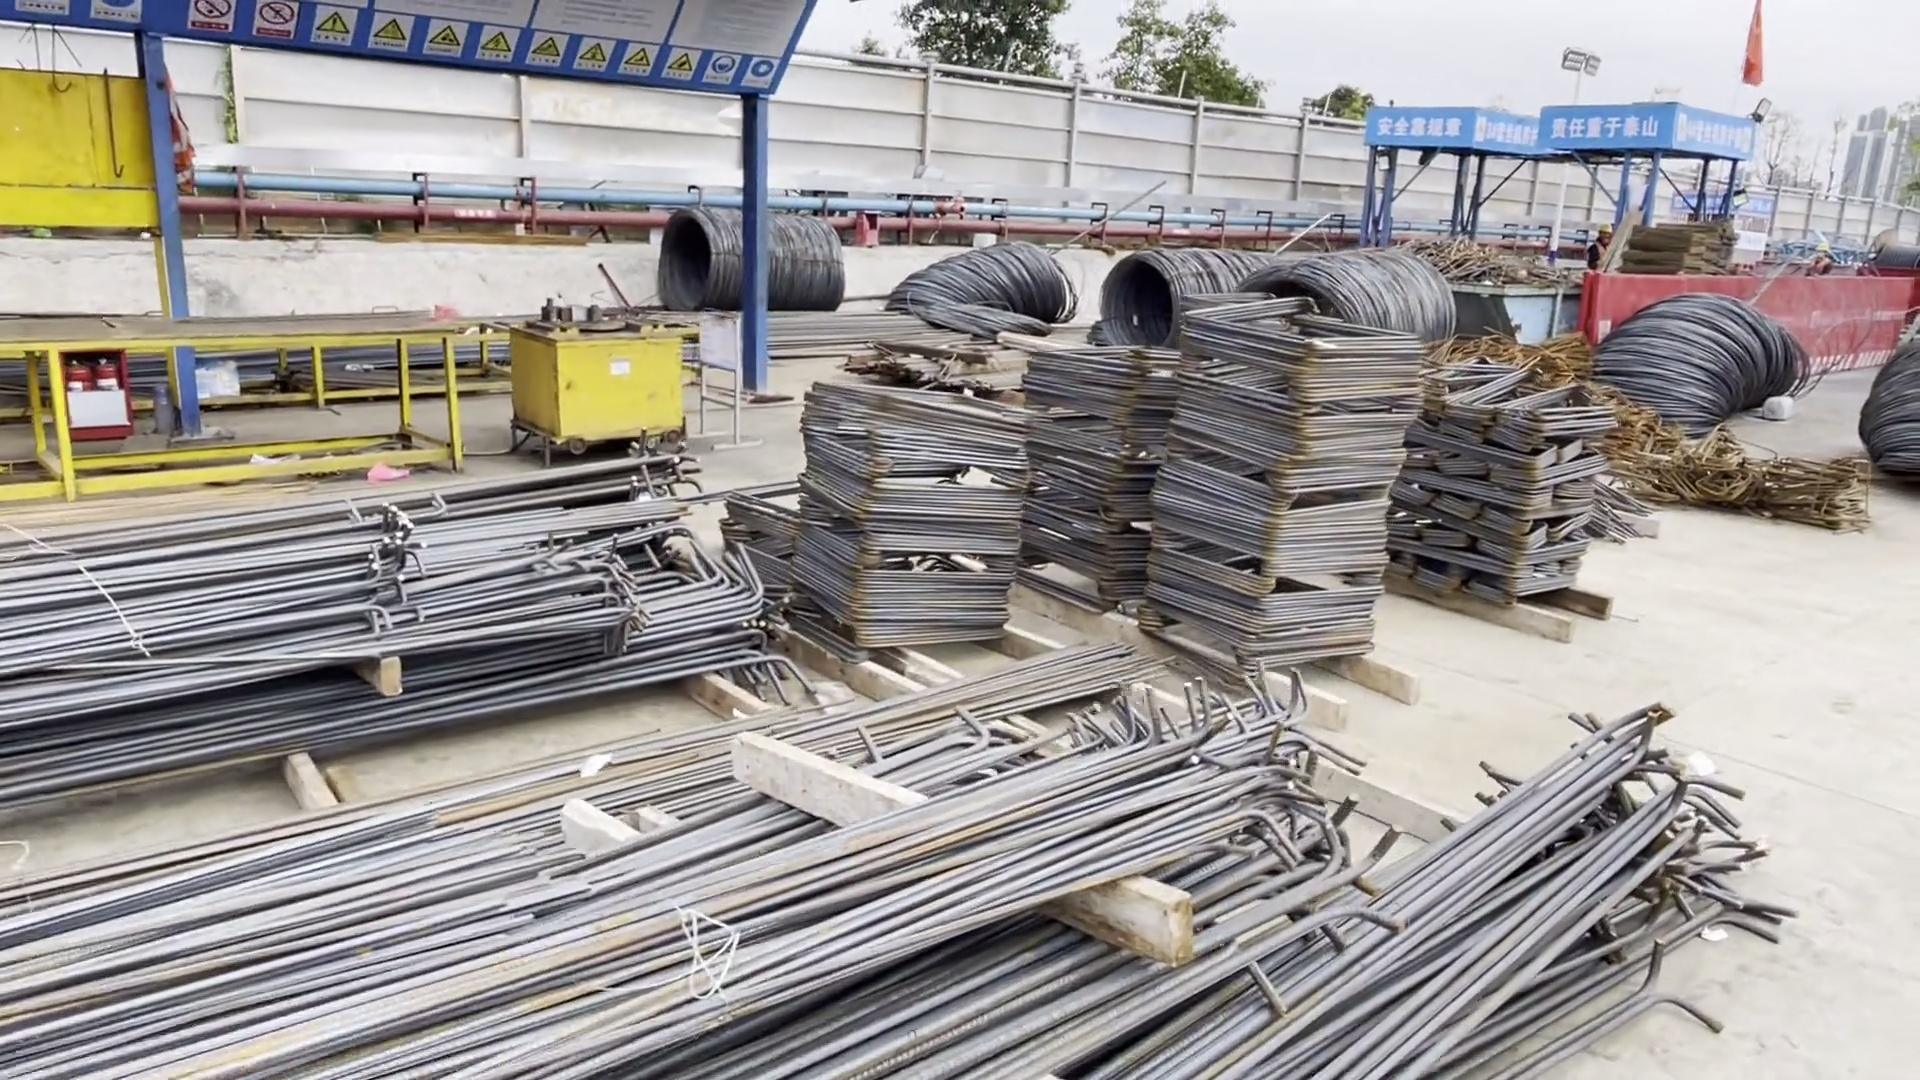cutter: (507, 305, 700, 444)
fence: (1582, 274, 1907, 363)
helmet: (1601, 221, 1613, 235)
hopper: (1450, 272, 1573, 344)
person: (1586, 223, 1613, 271), (1807, 246, 1826, 276)
rebar: (2, 660, 1732, 1070), (1, 444, 776, 815)
slogan: (1, 1, 787, 97), (1368, 110, 1752, 152)
